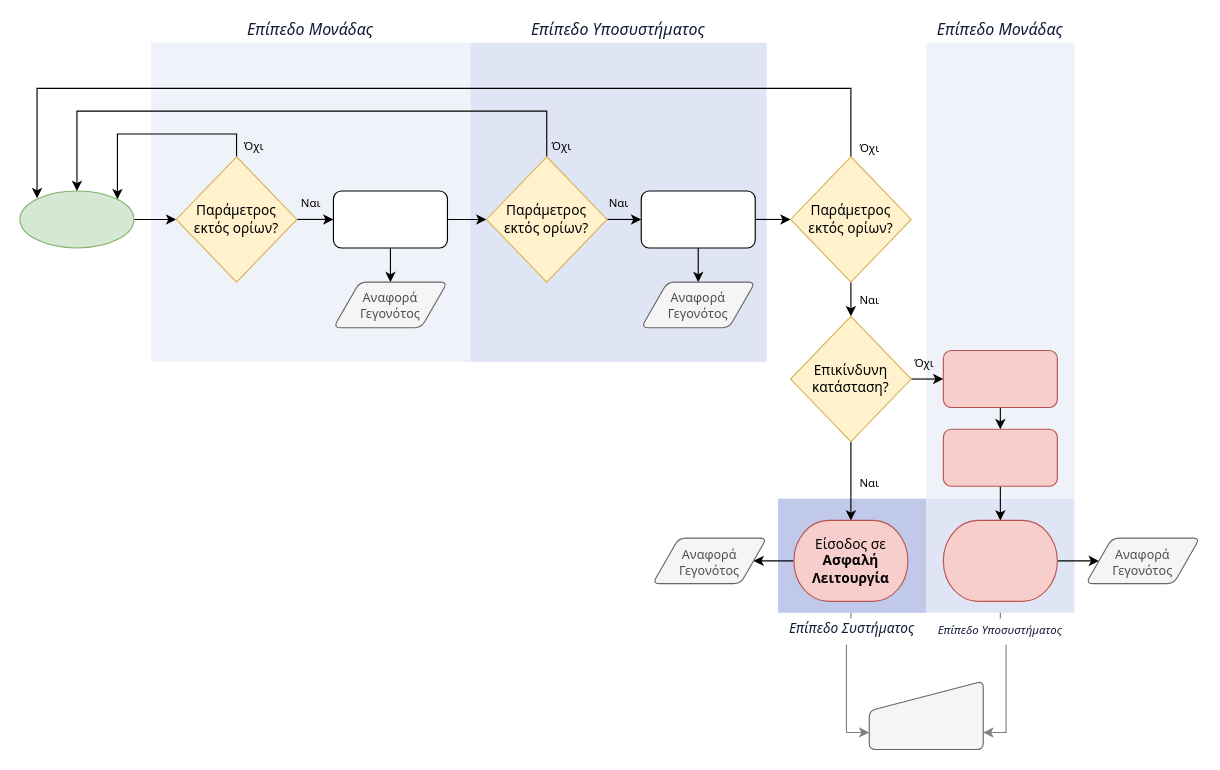
Image size: 1220x770. Some labels were removed from this diagram. The shapes that lost their labels are listed below. From the top down, each one's centre as x and y in pixels, then its label:
the point at 76,219: Έναρξη
the point at 389,219: Επανεκκίνηση (ει δυνατόν)
the point at 697,219: Επανεκκίνηση υποσυστήματος
the point at 999,378: Απομόνωση μονάδας
the point at 999,457: Απενεργοποίηση ελέγχων
the point at 999,560: Επαναδια-μόρφωση (αν απαιτείται)
the point at 925,715: Επέμβαση Χειριστή
